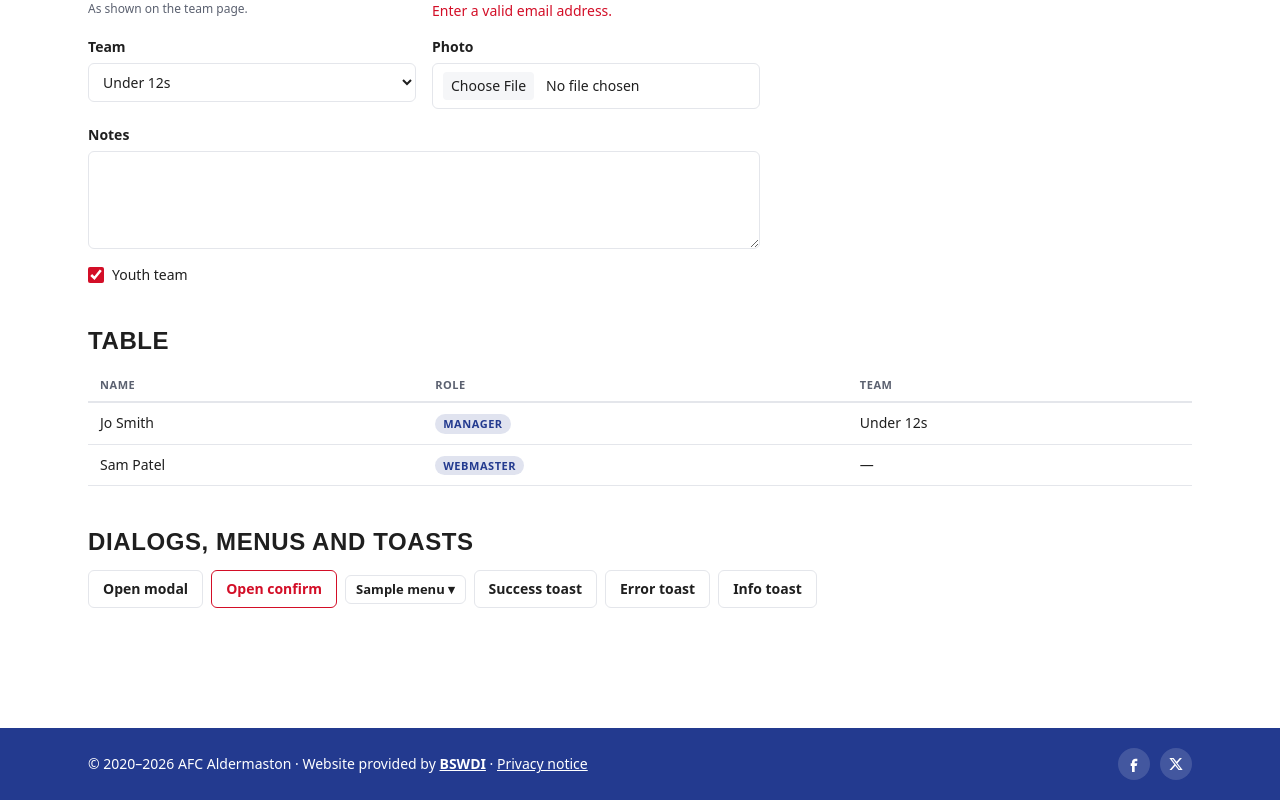
Test: DesignPage › shows each toast tone
(page scrolled)
Step 1. Click the button "Success toast" → (535, 590), box x1=474 y1=570 x2=597 y2=608
(page scrolled)
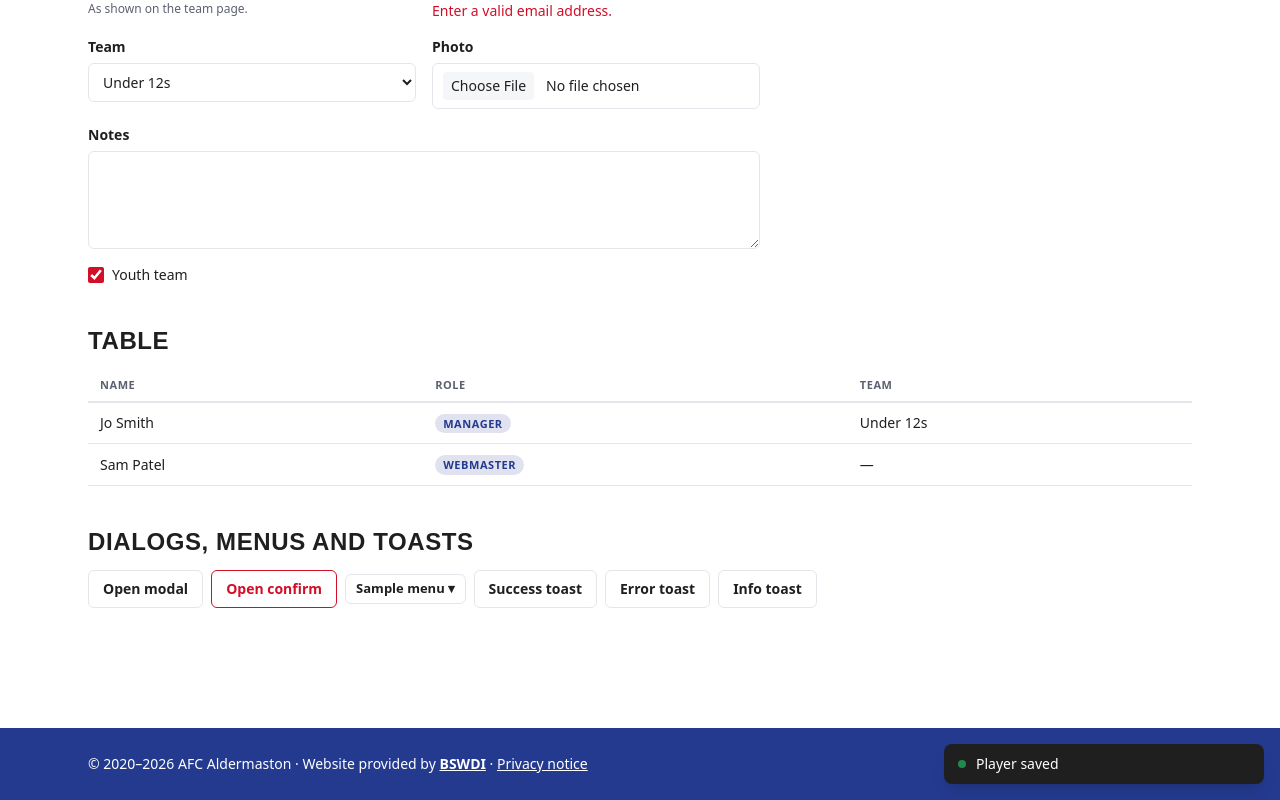
Expected: the button "Player saved" is shown, x1=944 y1=744 x2=1264 y2=784
